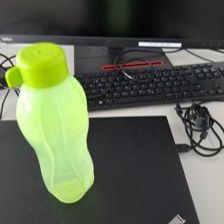bottle: (4, 38, 95, 206)
